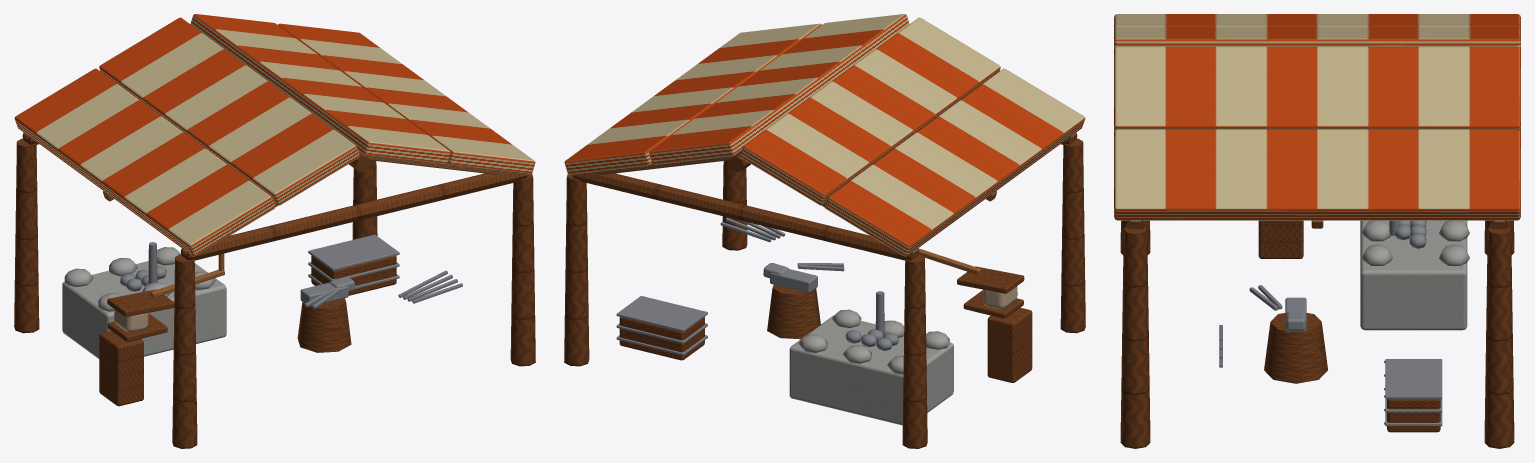
The model's file is viking-age-longhouse-and-longship-smithy-with-forge-an-0aad829d__30176.glb.
The picture shows the model from 3 angles, left to right: view 1: azimuth 30°, elevation 25°; view 2: azimuth 150°, elevation 25°; view 3: azimuth 270°, elevation 25°; orthographic projection. The views are drawn at different scales.
Visible parts, largest first — view 1: smithy-with-forge-and-bellows, bellows-arm/oak, bellows-arm/hide, bellows-arm/ash; view 2: smithy-with-forge-and-bellows, bellows-arm/oak, bellows-arm/hide; view 3: smithy-with-forge-and-bellows.
Boxes of the visible parts, x1,y1,x2,y2 form: smithy-with-forge-and-bellows: [14, 14, 535, 448]; bellows-arm/oak: [107, 289, 174, 316]; bellows-arm/hide: [114, 309, 148, 332]; bellows-arm/ash: [150, 253, 224, 297]; smithy-with-forge-and-bellows: [564, 14, 1085, 448]; bellows-arm/oak: [957, 266, 1024, 293]; bellows-arm/hide: [983, 286, 1017, 309]; smithy-with-forge-and-bellows: [1114, 14, 1520, 448].
Bounding box in the file's own units: 4.51 × 3.14 × 3.8.
7 materials, 5 textured.
